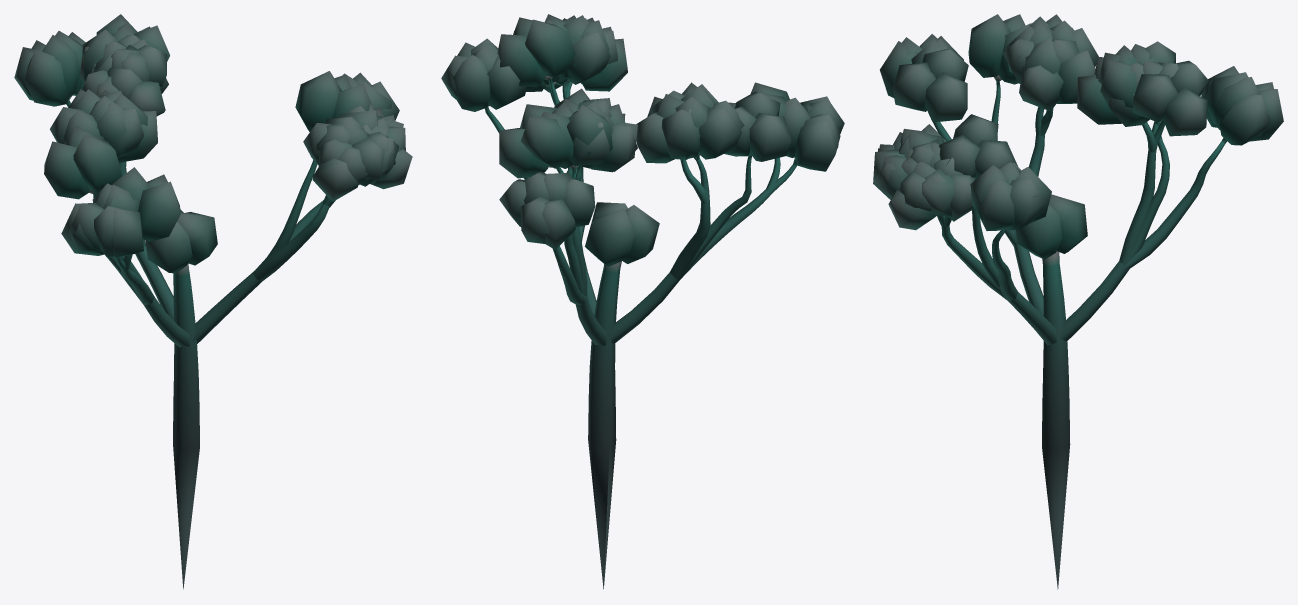
Rendered from plants-flowers-teal-cluster-flower_v2.fbx.
The picture shows the model from 3 angles, left to right: view 1: azimuth 30°, elevation 25°; view 2: azimuth 150°, elevation 25°; view 3: azimuth 270°, elevation 25°; orthographic projection.
Visible parts, largest first — view 1: Teal Cluster Flower_v2; view 2: Teal Cluster Flower_v2; view 3: Teal Cluster Flower_v2.
Part boxes in pixels (x1,y1,x2,y2): Teal Cluster Flower_v2: [14, 14, 412, 589]; Teal Cluster Flower_v2: [441, 14, 844, 589]; Teal Cluster Flower_v2: [873, 14, 1283, 589].
Bounding box in the file's own units: 0.4218 × 0.6 × 0.4169.
